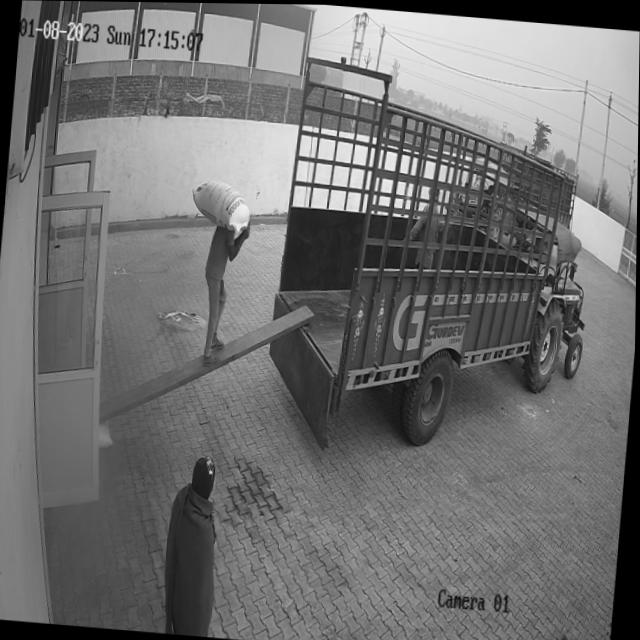sack: (189, 176, 252, 232)
